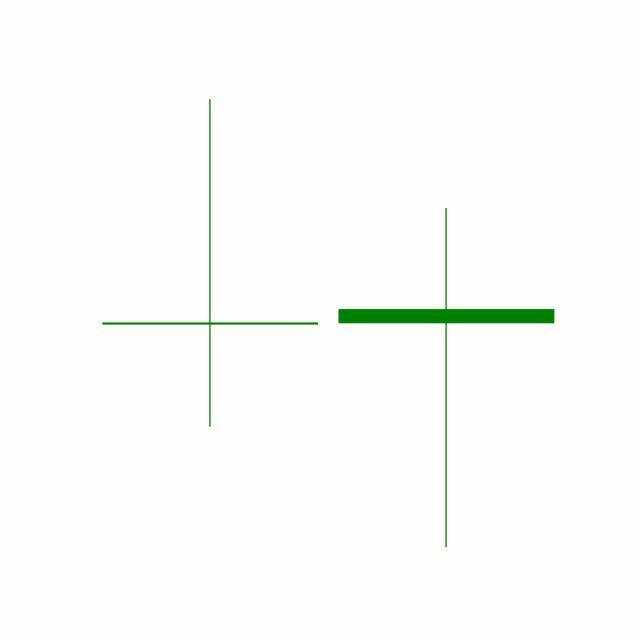Spinning Top: (328, 204, 566, 551)
